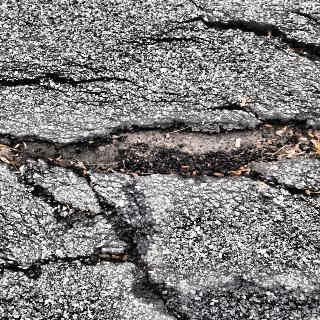crack: (0, 181, 149, 271), (0, 70, 132, 89)
pothole: (4, 116, 320, 180)
